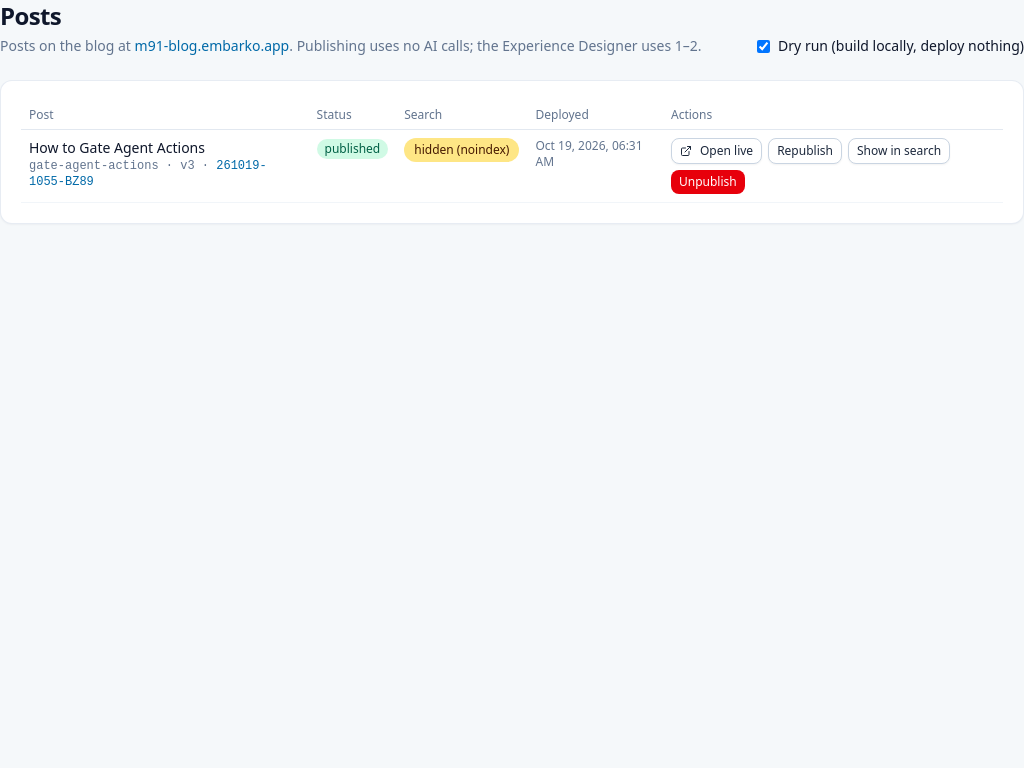
Test: Posts page › shows a 409 from the engine as an alert
Click the button "Republish" at (805, 151), box [768, 138, 842, 164]
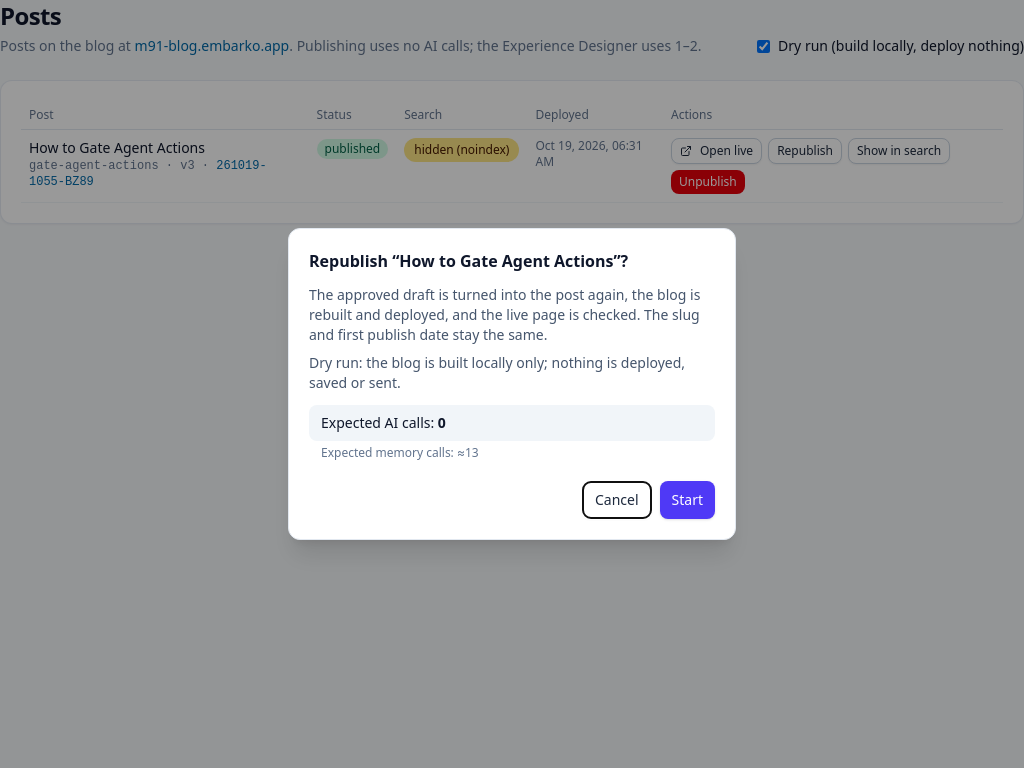
Click the button "Start" at (687, 500), box [660, 481, 715, 519]
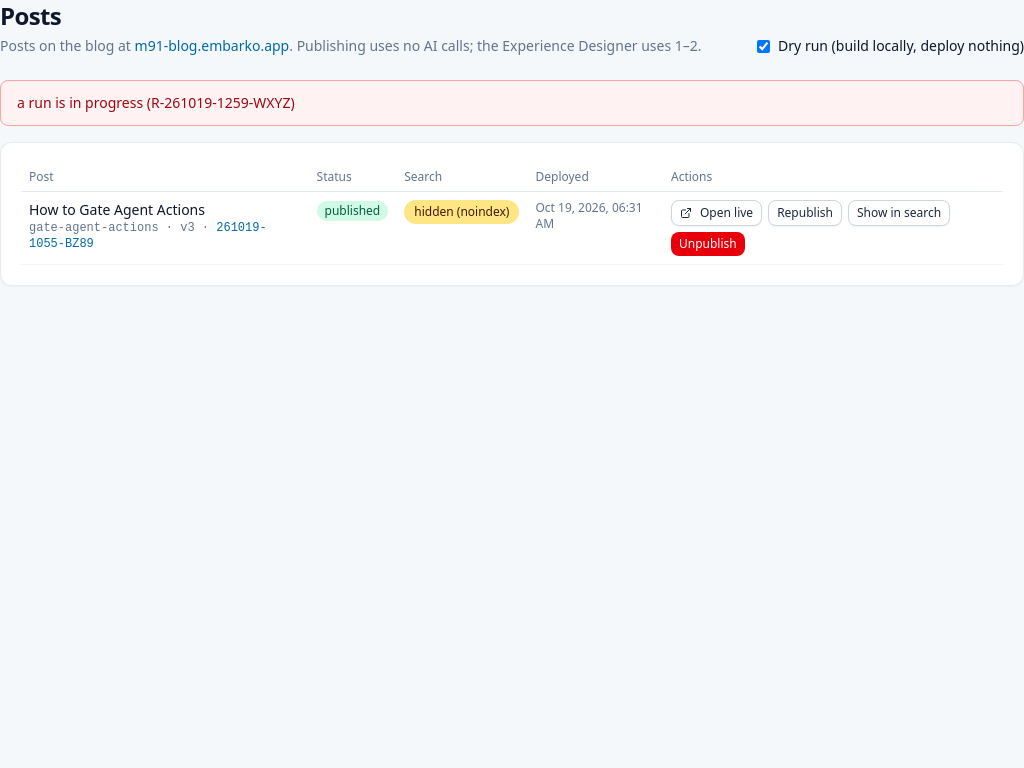
Expected: the message shows "a run is in progress", [17, 93, 295, 112]
